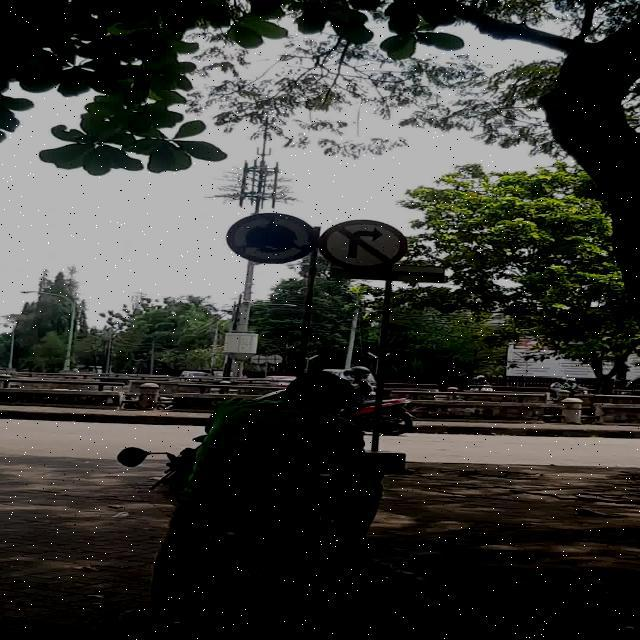Dilarang Belok Kanan: (319, 220, 407, 270)
